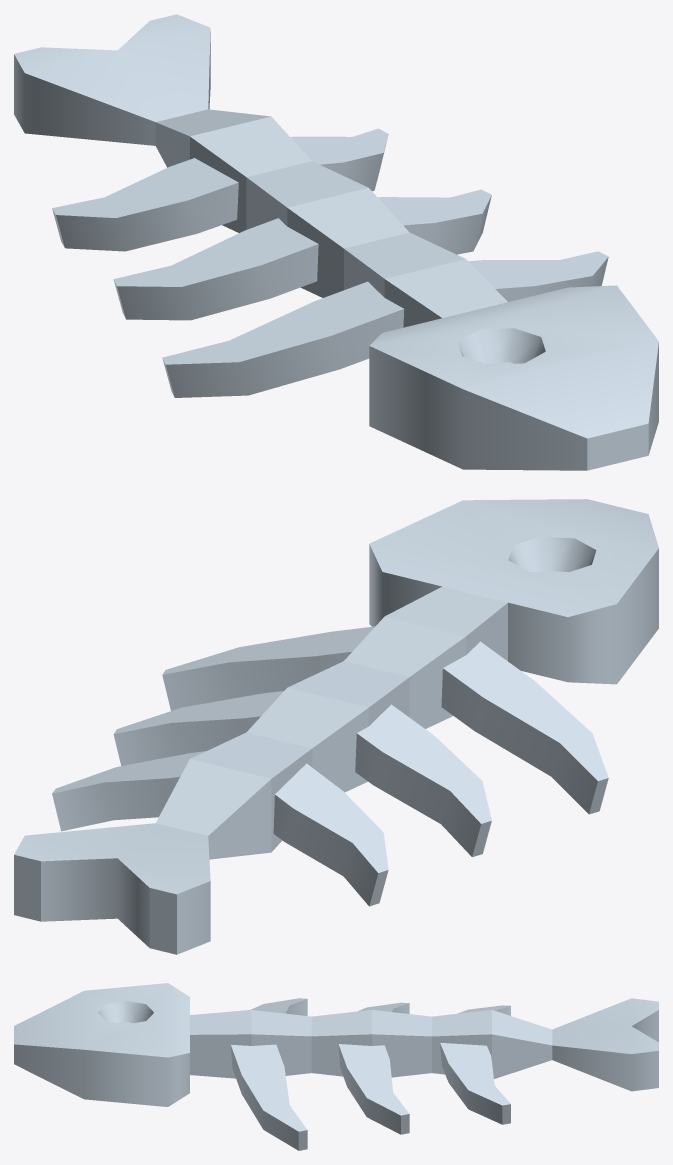
Rendered from Fish Bones.glb.
3 renders of one model, top to bottom at view 1: azimuth 30°, elevation 25°; view 2: azimuth 150°, elevation 25°; view 3: azimuth 270°, elevation 25°, orthographic. The views are drawn at different scales.
Visible parts, largest first — view 1: fishBones; view 2: fishBones; view 3: fishBones.
Part boxes in pixels (left/top/right/bottom): fishBones: left=14, top=14, right=658, bottom=470; fishBones: left=14, top=499, right=658, bottom=954; fishBones: left=14, top=983, right=658, bottom=1150.
Size of the model in its own units: 0.3113 by 0.0726 by 0.6358.
